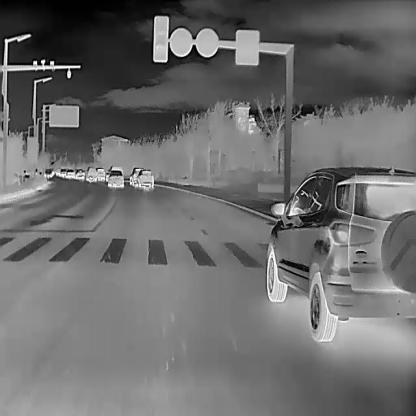car: (266, 165, 415, 340), (136, 169, 154, 187), (108, 169, 124, 188), (128, 166, 143, 184), (85, 166, 96, 180), (75, 168, 86, 181), (95, 166, 105, 180), (66, 167, 74, 177), (59, 167, 66, 176)
